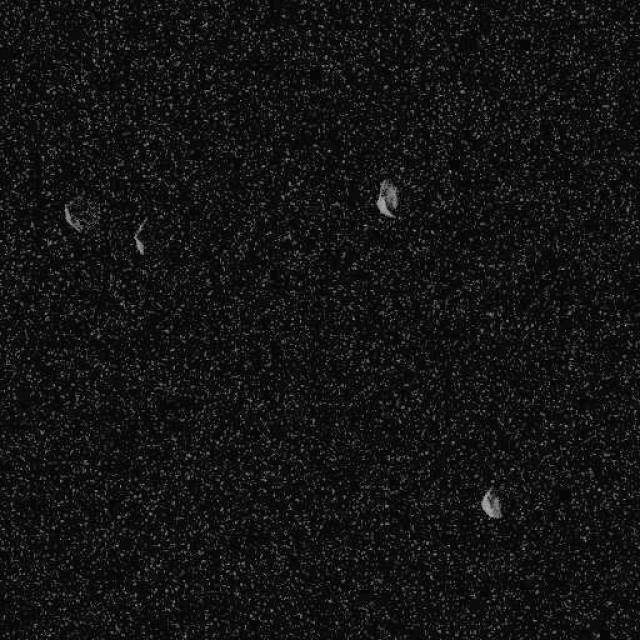D2: (375, 178, 400, 218), (480, 485, 502, 519), (62, 202, 84, 232), (132, 216, 148, 255)
